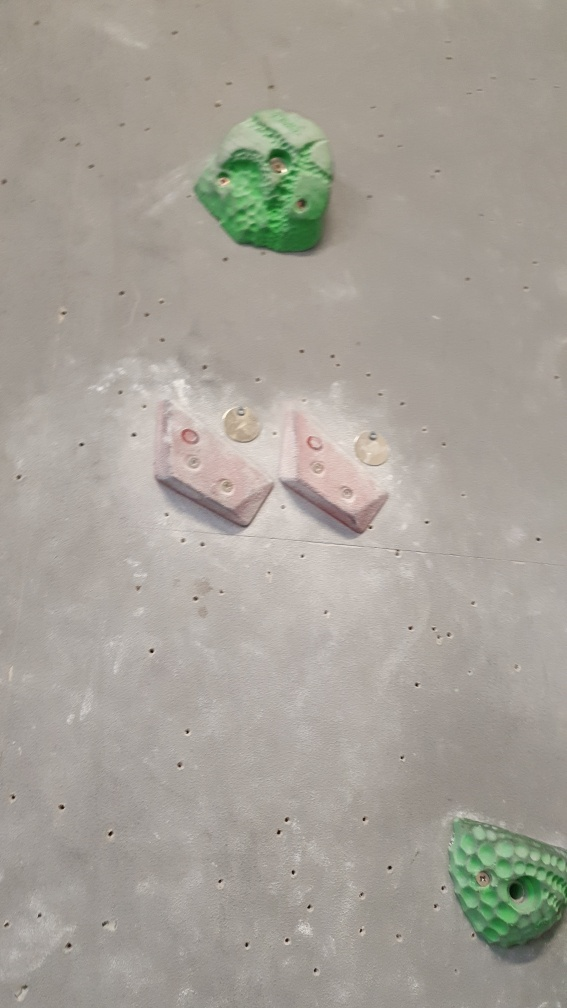Crimp: (147, 400, 274, 530), (276, 408, 391, 534)
Hand Start: (222, 401, 265, 449), (350, 428, 394, 470)
Jug: (195, 108, 332, 263)
